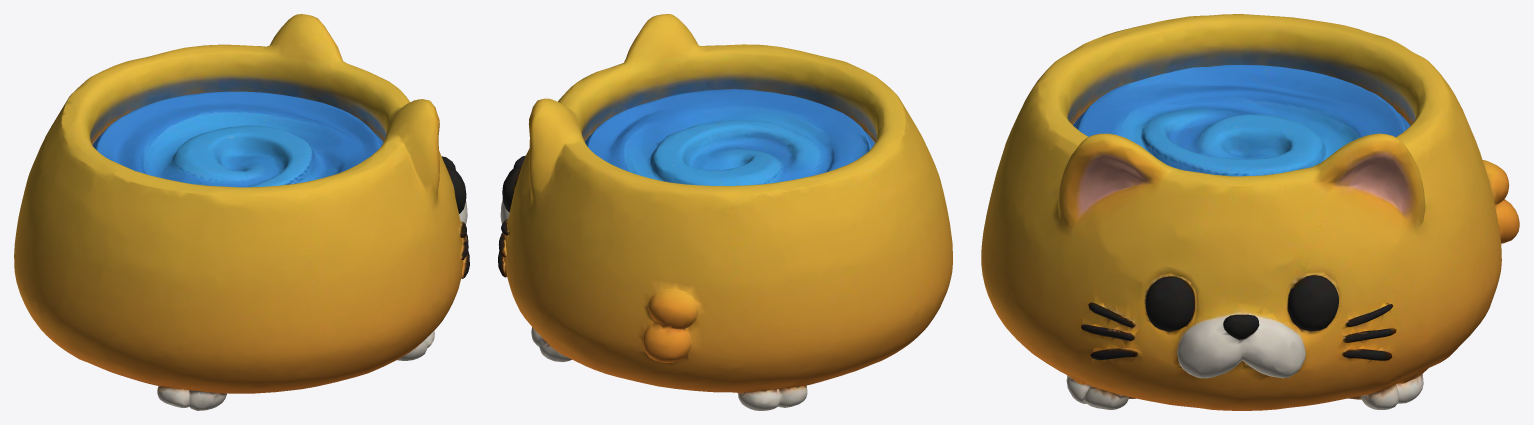
Rendered from bowl_water_10.glb.
3 views of the same model, side by side, from view 1: azimuth 30°, elevation 25°; view 2: azimuth 150°, elevation 25°; view 3: azimuth 270°, elevation 25° (orthographic). The views are drawn at different scales.
Parts seen in each view (by area): view 1: tripo_node_06b93437-7781-41f0-a26a-a9952fc86e0c; view 2: tripo_node_06b93437-7781-41f0-a26a-a9952fc86e0c; view 3: tripo_node_06b93437-7781-41f0-a26a-a9952fc86e0c.
Boxes of the visible parts, x1=… form: tripo_node_06b93437-7781-41f0-a26a-a9952fc86e0c: x1=14, y1=14, x2=469, y2=410; tripo_node_06b93437-7781-41f0-a26a-a9952fc86e0c: x1=498, y1=14, x2=952, y2=410; tripo_node_06b93437-7781-41f0-a26a-a9952fc86e0c: x1=981, y1=14, x2=1519, y2=410.
Size of the model in its own units: 1 by 0.5677 by 0.9934.
Materials: 1 (1 with a texture image).
